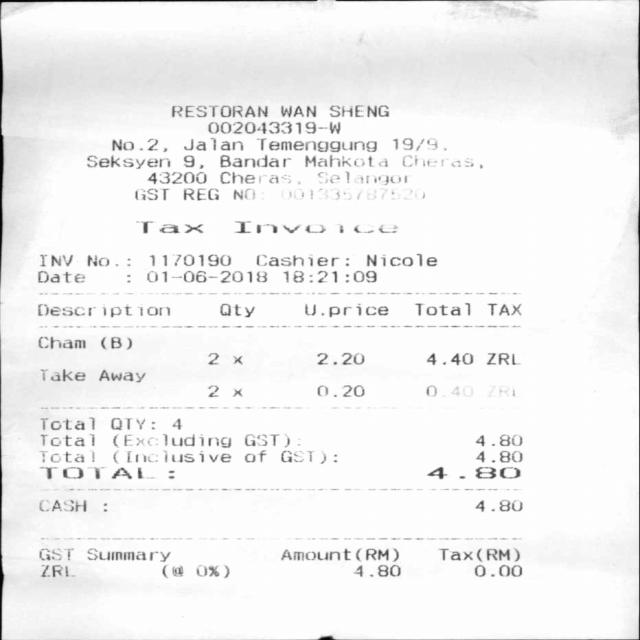text: (39, 466, 177, 480), (235, 221, 395, 233), (282, 188, 425, 201), (256, 137, 376, 152), (112, 433, 229, 448), (208, 122, 340, 134), (36, 305, 170, 316), (146, 271, 268, 283), (109, 451, 231, 463), (301, 302, 390, 318), (280, 548, 398, 560), (283, 270, 377, 284), (85, 154, 169, 169), (317, 171, 405, 185), (427, 466, 519, 479), (437, 547, 520, 561), (86, 548, 169, 562), (172, 105, 266, 117), (255, 254, 347, 266), (305, 154, 386, 167), (402, 155, 482, 168), (365, 252, 436, 266), (149, 254, 229, 266), (218, 155, 290, 167), (219, 171, 291, 183), (135, 221, 202, 233), (328, 104, 388, 117), (111, 138, 166, 152), (147, 171, 205, 184), (41, 416, 94, 430), (39, 450, 96, 463), (182, 138, 242, 150), (280, 449, 327, 464), (416, 302, 469, 315), (38, 498, 86, 512), (40, 434, 94, 446), (392, 138, 445, 150), (244, 433, 289, 447), (425, 385, 475, 397), (426, 352, 472, 365), (98, 369, 144, 382), (37, 336, 86, 348), (39, 368, 84, 381), (487, 301, 521, 318), (37, 270, 85, 282), (315, 352, 363, 364), (110, 417, 154, 430), (352, 564, 399, 576), (317, 384, 363, 396), (474, 434, 520, 446), (475, 450, 521, 462), (474, 564, 520, 576), (476, 499, 521, 511), (220, 302, 254, 317), (86, 255, 129, 266), (487, 383, 516, 398), (182, 188, 218, 200), (39, 564, 74, 576), (196, 565, 228, 578), (280, 105, 314, 117), (38, 254, 72, 266), (207, 352, 241, 364), (38, 548, 72, 560), (134, 188, 167, 200), (207, 385, 240, 397), (486, 352, 518, 364), (100, 336, 130, 348), (162, 565, 182, 578), (183, 155, 202, 168), (245, 450, 265, 462), (234, 188, 254, 199), (171, 418, 180, 429), (126, 274, 129, 282)
